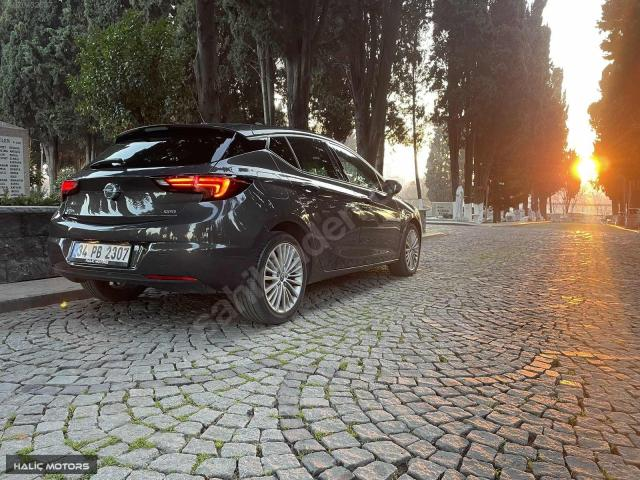plaka: (72, 242, 130, 264)
